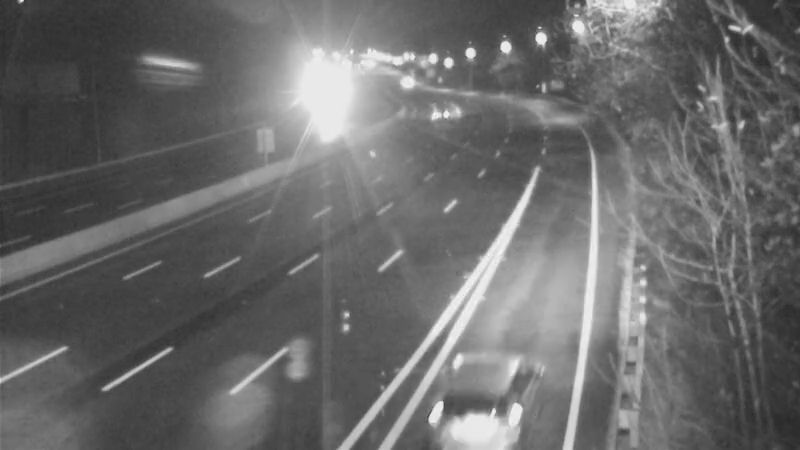vehicle: (428, 346, 538, 450), (377, 54, 427, 104), (415, 87, 465, 137), (299, 73, 349, 123)
